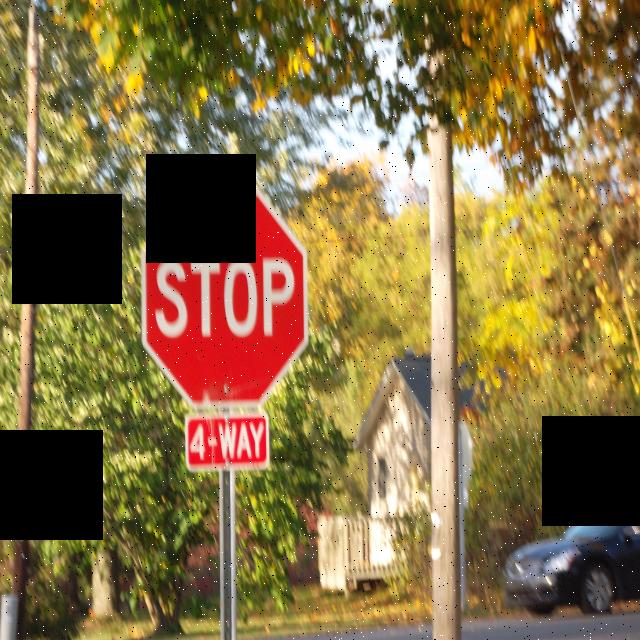stop: (137, 178, 313, 409)
